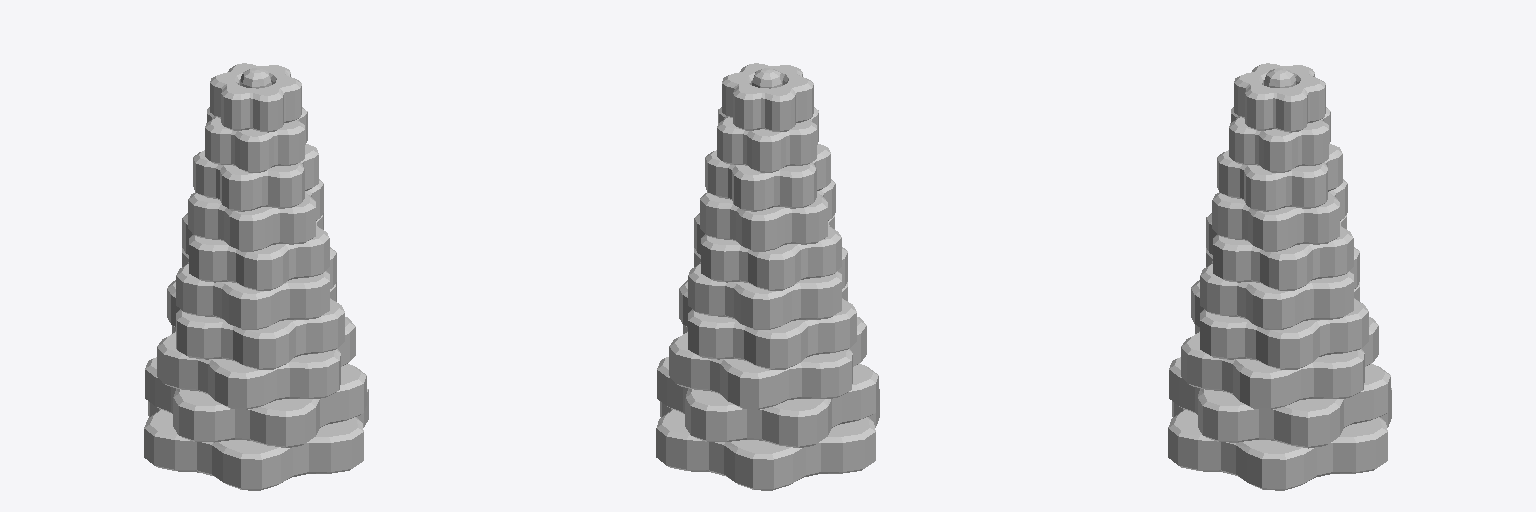
The model's file is Brinquedo_1.obj.
3 views of the same model, side by side, from view 1: azimuth 30°, elevation 25°; view 2: azimuth 150°, elevation 25°; view 3: azimuth 270°, elevation 25° (orthographic).
Visible parts, largest first — view 1: Toy_Train:pyramid; view 2: Toy_Train:pyramid; view 3: Toy_Train:pyramid.
Part boxes in pixels (bbox=[...]): Toy_Train:pyramid: bbox=[144, 63, 368, 490]; Toy_Train:pyramid: bbox=[656, 63, 879, 490]; Toy_Train:pyramid: bbox=[1168, 63, 1391, 490].
Bounding box in the file's own units: 0.1709 × 0.2894 × 0.1578.